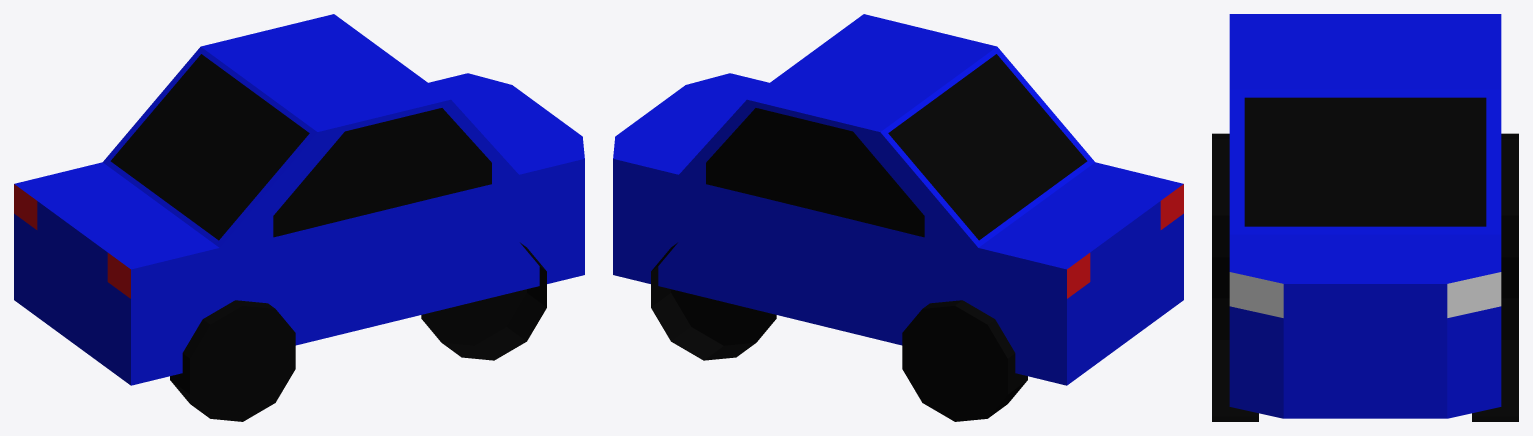
File: car.fbx
3 views of the same model, side by side, from view 1: azimuth 30°, elevation 25°; view 2: azimuth 150°, elevation 25°; view 3: azimuth 270°, elevation 25° (orthographic). The views are drawn at different scales.
Visible parts, largest first — view 1: Cube.001; view 2: Cube.001; view 3: Cube.001.
Boxes of the visible parts, x1=… form: Cube.001: x1=14, y1=14, x2=584, y2=421; Cube.001: x1=613, y1=14, x2=1183, y2=421; Cube.001: x1=1212, y1=14, x2=1518, y2=421.
Size of the model in its own units: 855 by 455 by 412.
